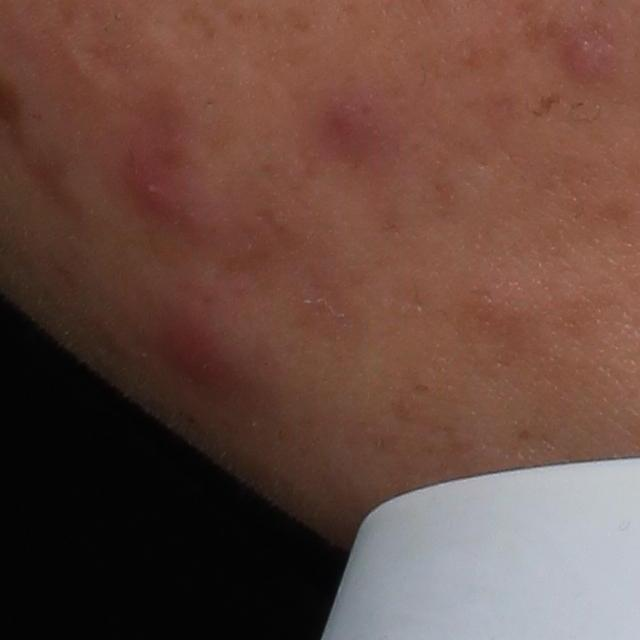papule: (160, 318, 232, 397), (557, 36, 610, 88)
